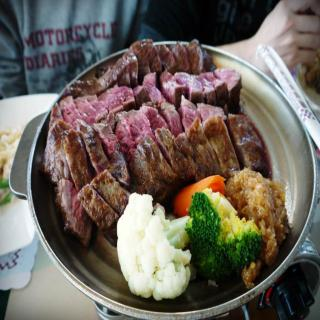Broccoli: (185, 189, 263, 278)
